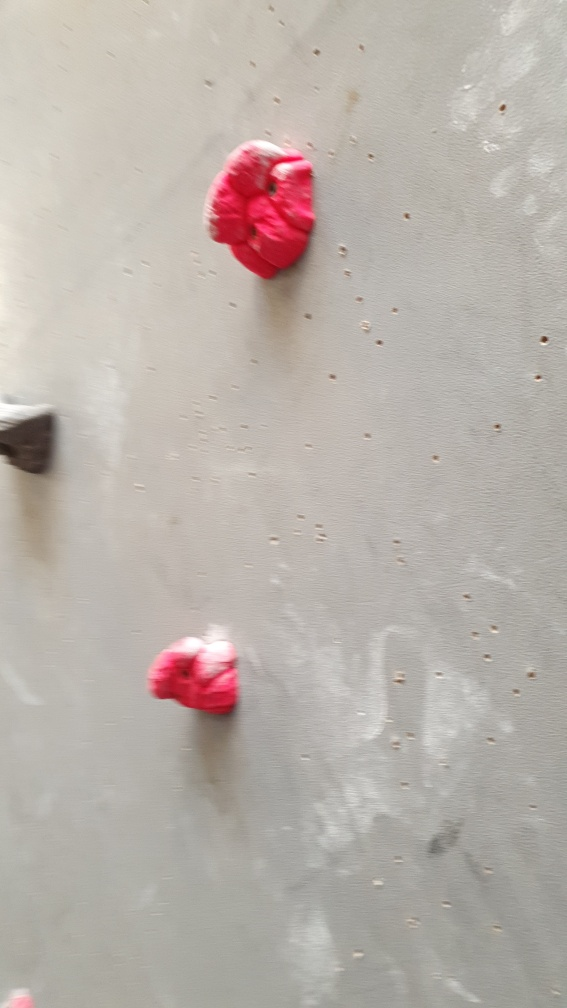Jug: (202, 139, 316, 282), (144, 634, 241, 720)
